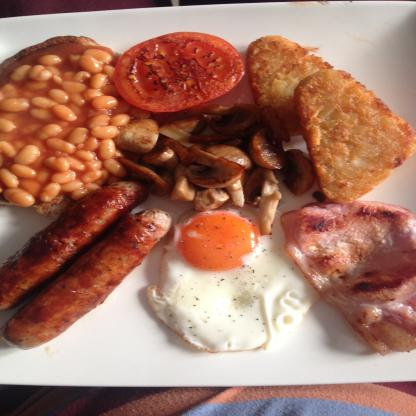Tomato: (110, 32, 252, 104)
